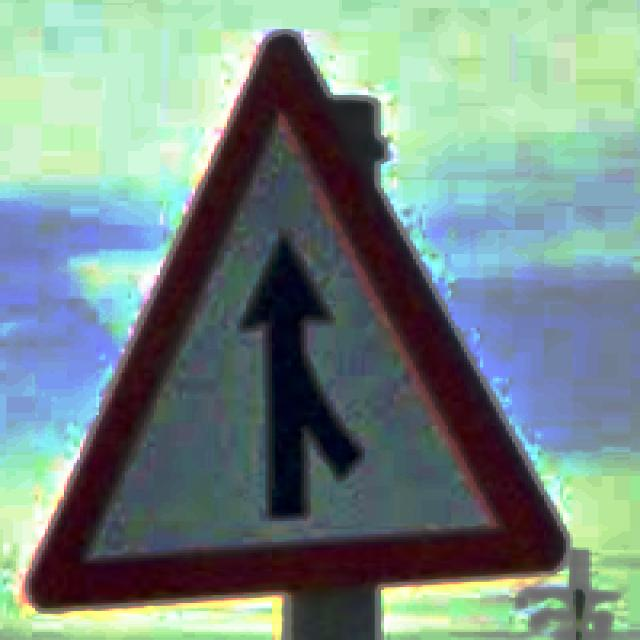rightmerge: (29, 34, 566, 609)
